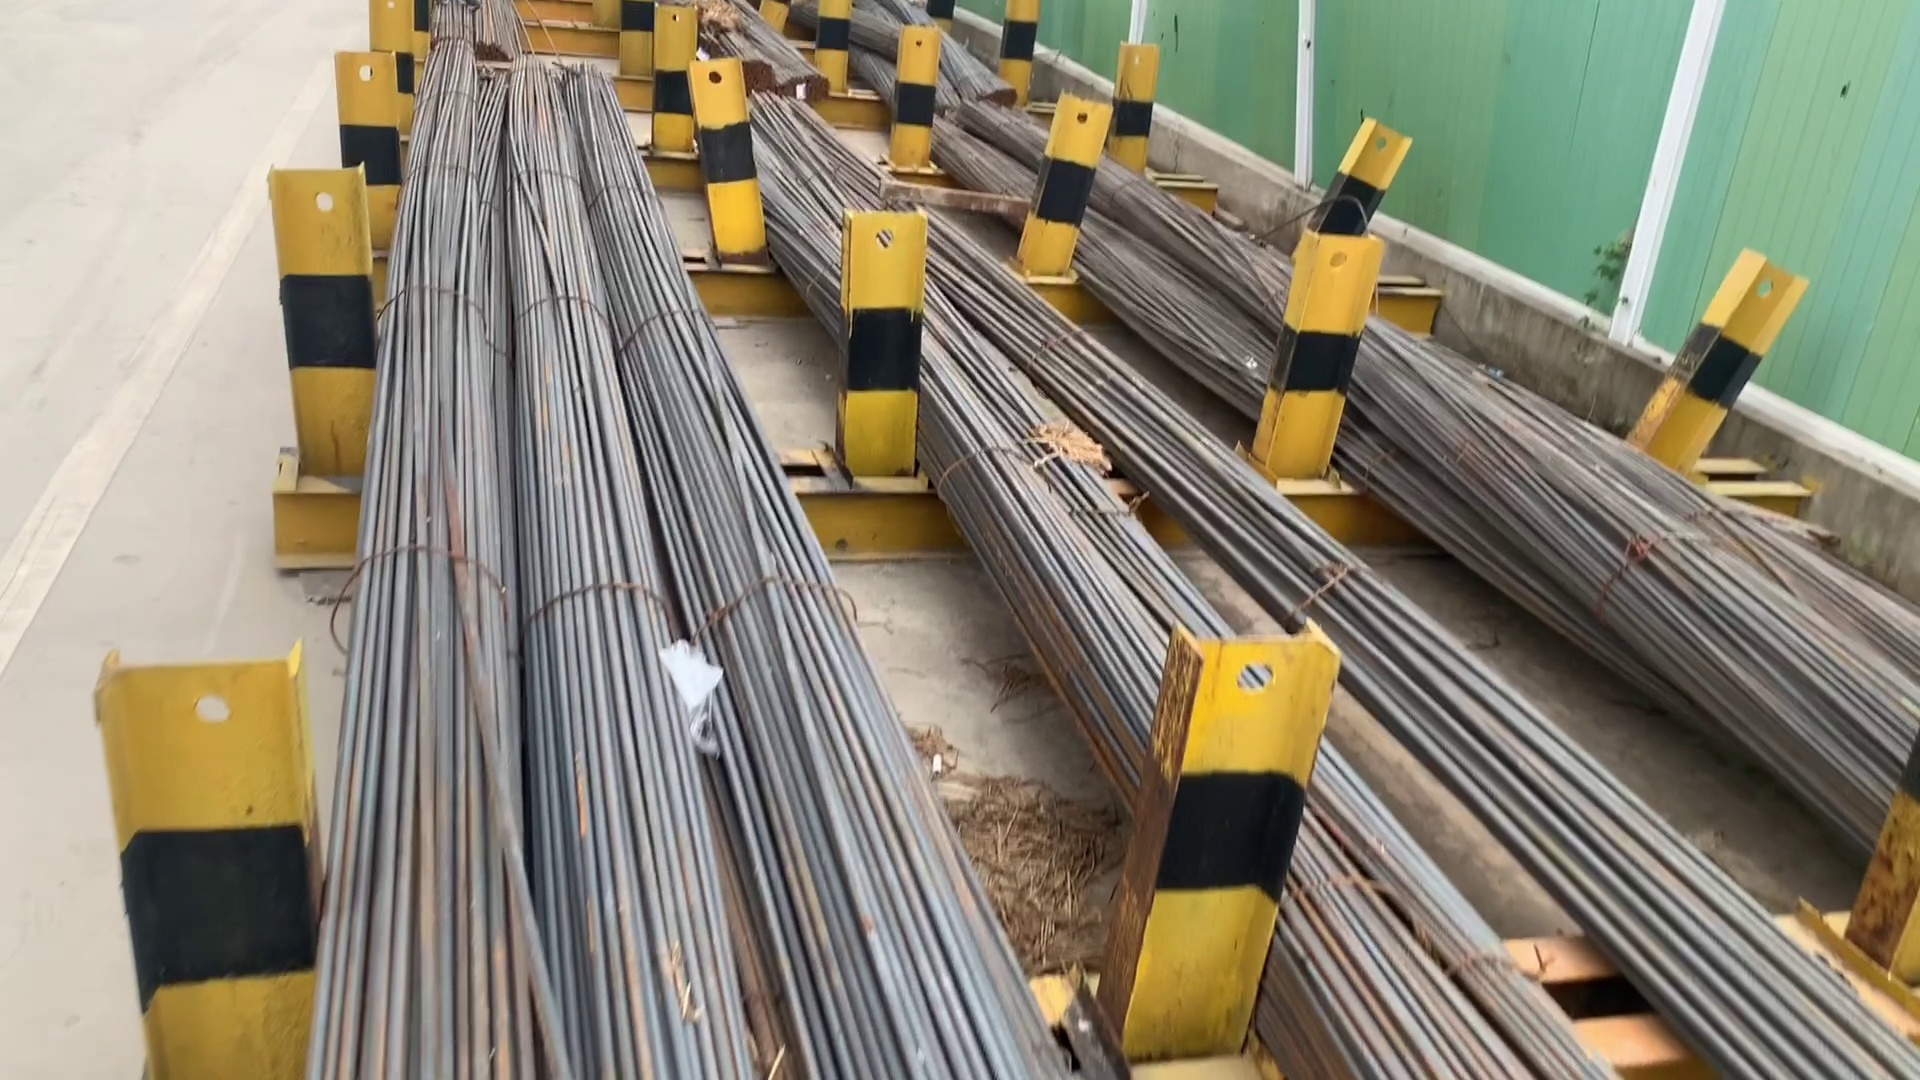rebar: (781, 69, 833, 109), (735, 54, 779, 92), (976, 76, 1030, 107)
